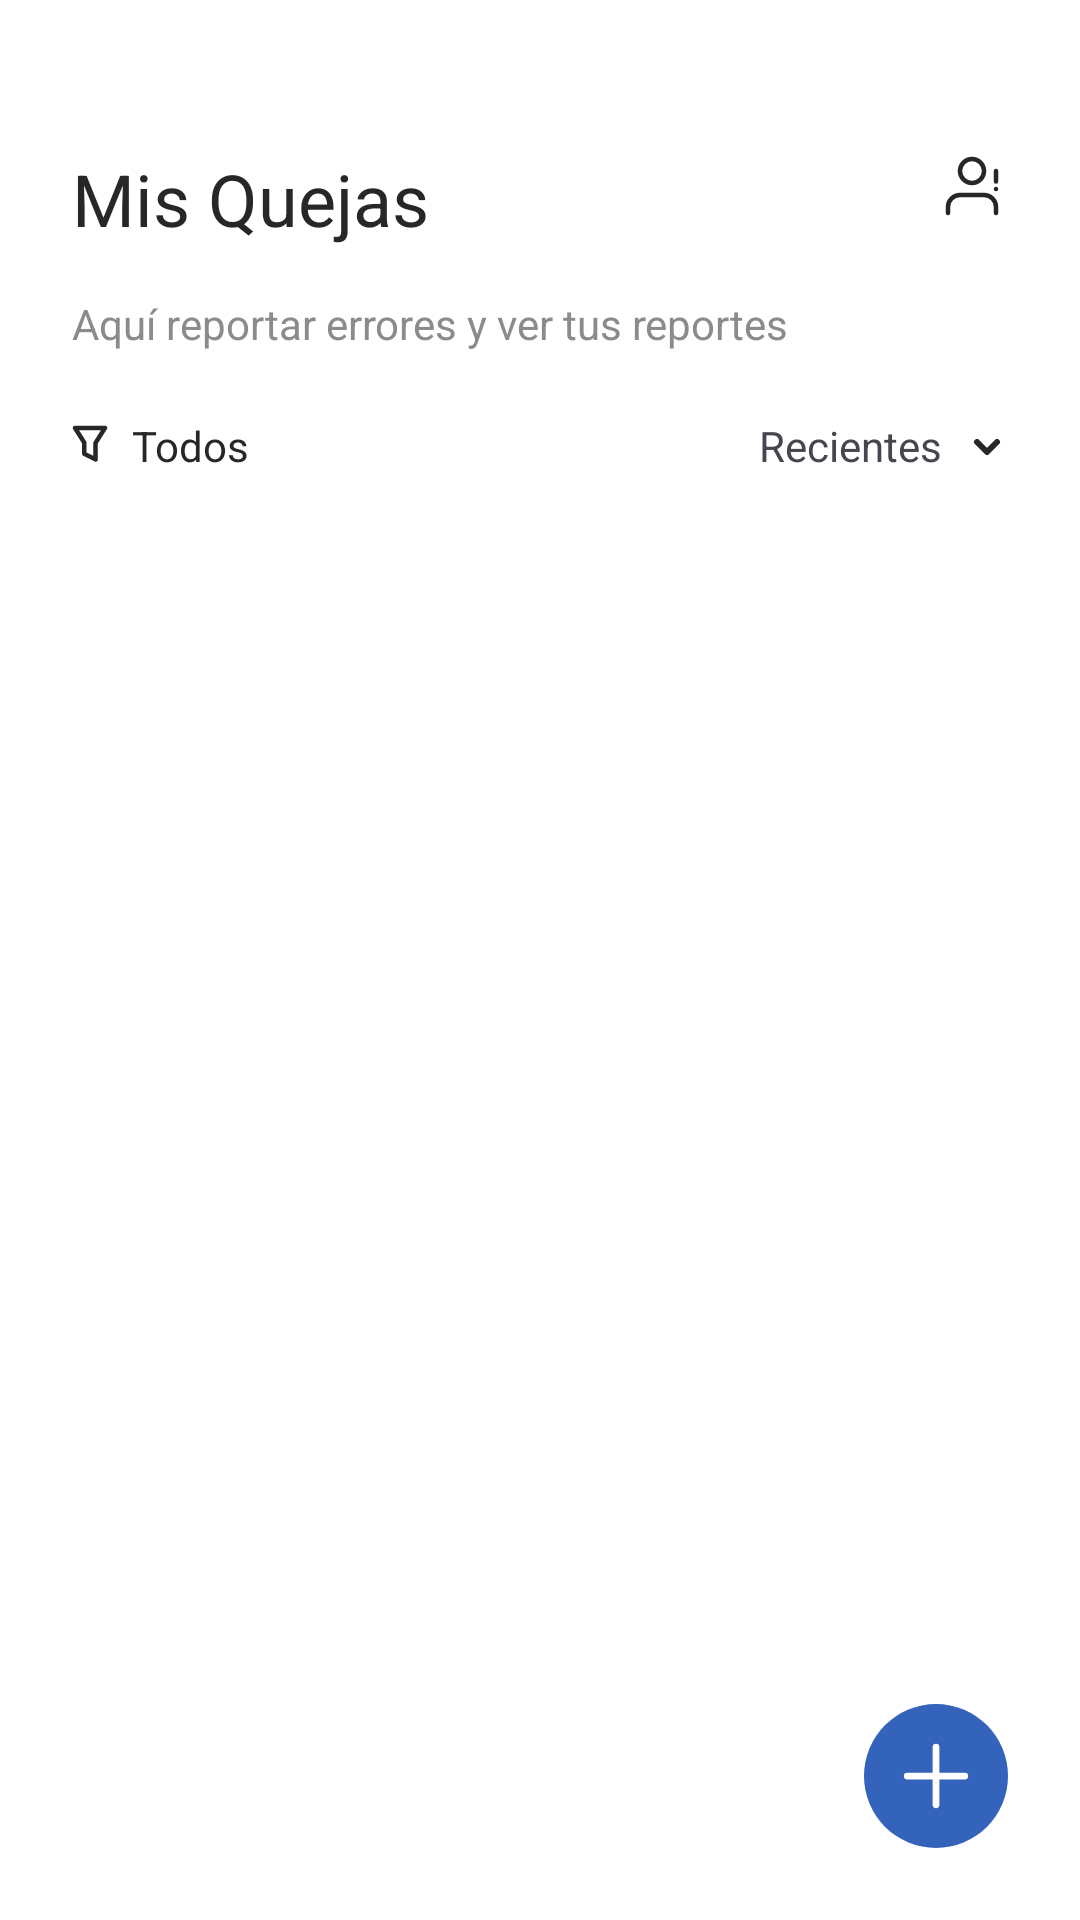

Icons on this 1080*1920 Android screen, each with the point to tap as (x,y):
gio add queja: (936,1776)
gio filter: (90,443)
gio user warning: (972,186)
